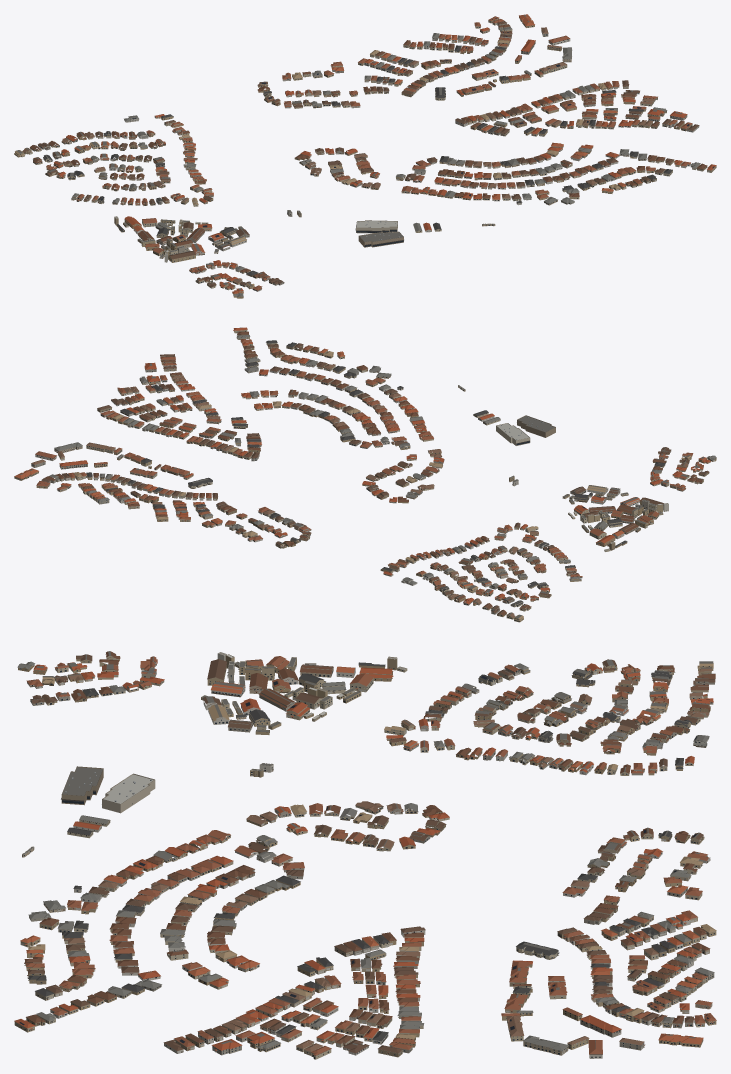
The picture shows the model from 3 angles, top to bottom: view 1: azimuth 30°, elevation 25°; view 2: azimuth 150°, elevation 25°; view 3: azimuth 270°, elevation 25°; orthographic projection. The views are drawn at different scales.
Parts seen in each view (by area): view 1: buildings_r6_c7_lod0; view 2: buildings_r6_c7_lod0; view 3: buildings_r6_c7_lod0.
Part boxes in pixels (x1,y1,x2,y2): buildings_r6_c7_lod0: [14, 14, 716, 298]; buildings_r6_c7_lod0: [14, 327, 716, 622]; buildings_r6_c7_lod0: [14, 651, 716, 1059].
Bounding box in the file's own units: 1149 × 52.4 × 806.
